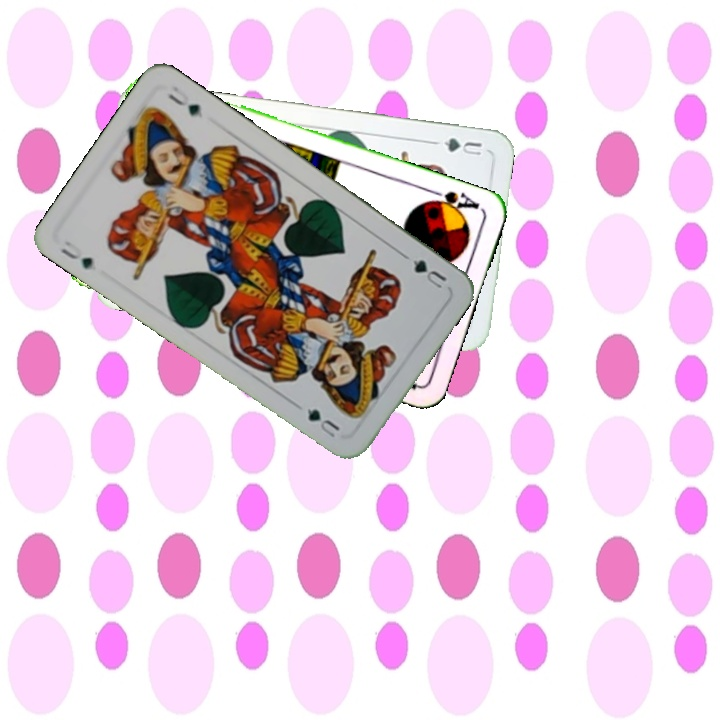GU: (400, 250, 450, 293), (56, 236, 96, 273), (438, 134, 485, 158)
SA: (422, 185, 482, 218)
